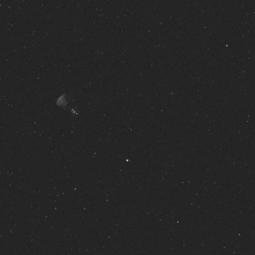debris: (50, 86, 86, 124)
